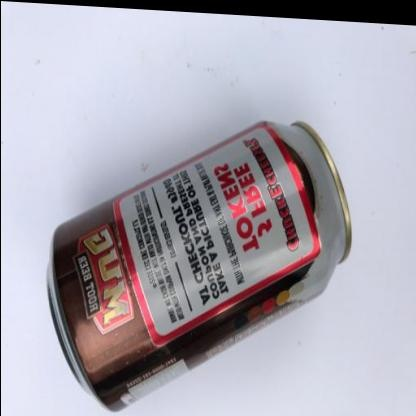trash: (48, 122, 350, 408)
